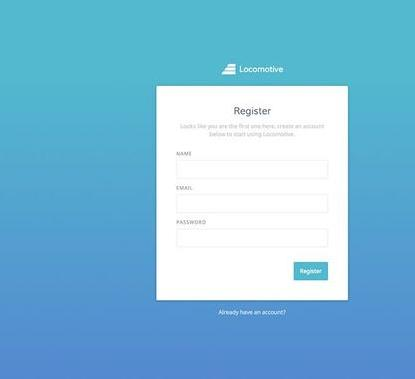button: (291, 259, 329, 282)
field: (173, 158, 330, 182), (174, 191, 331, 215), (175, 226, 332, 249)
field_with_label: (173, 218, 333, 251), (171, 151, 332, 183), (172, 185, 333, 216)
